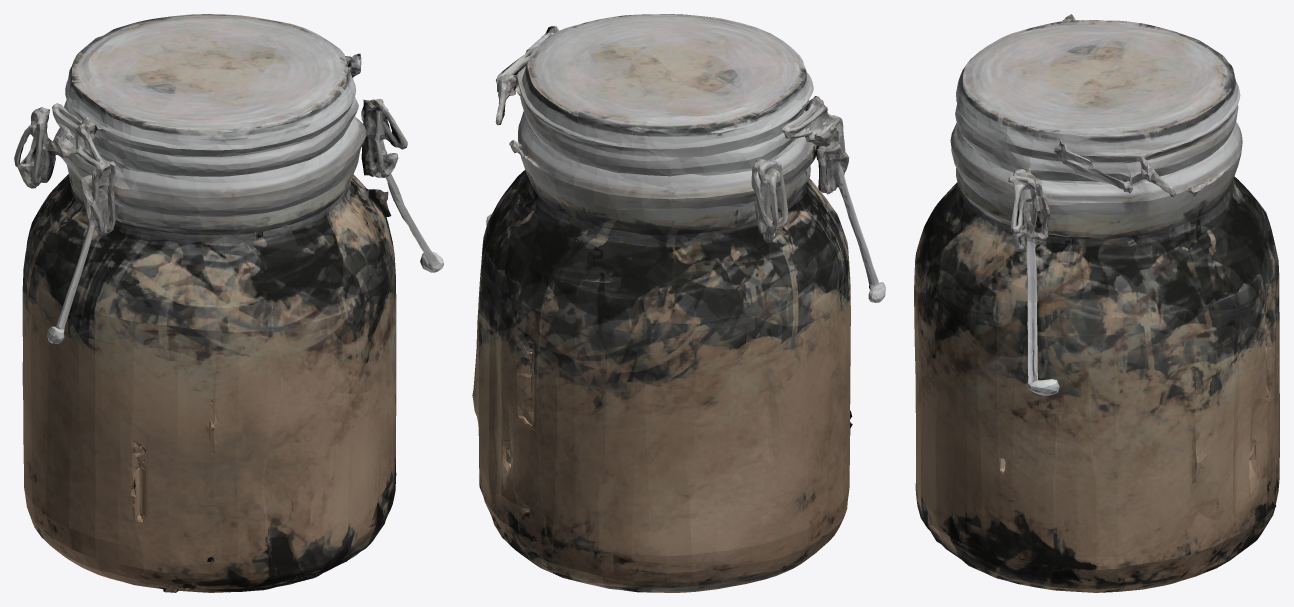
3 renders of one model, left to right at view 1: azimuth 30°, elevation 25°; view 2: azimuth 150°, elevation 25°; view 3: azimuth 270°, elevation 25°, orthographic.
Visible parts, largest first — view 1: world; view 2: world; view 3: world.
Part boxes in pixels (x1,y1,x2,y2): world: [14, 14, 443, 592]; world: [472, 14, 885, 592]; world: [914, 14, 1279, 592].
Size of the model in its own units: 0.8743 by 0.9947 by 0.7164.
Materials: 1 (1 with a texture image).
